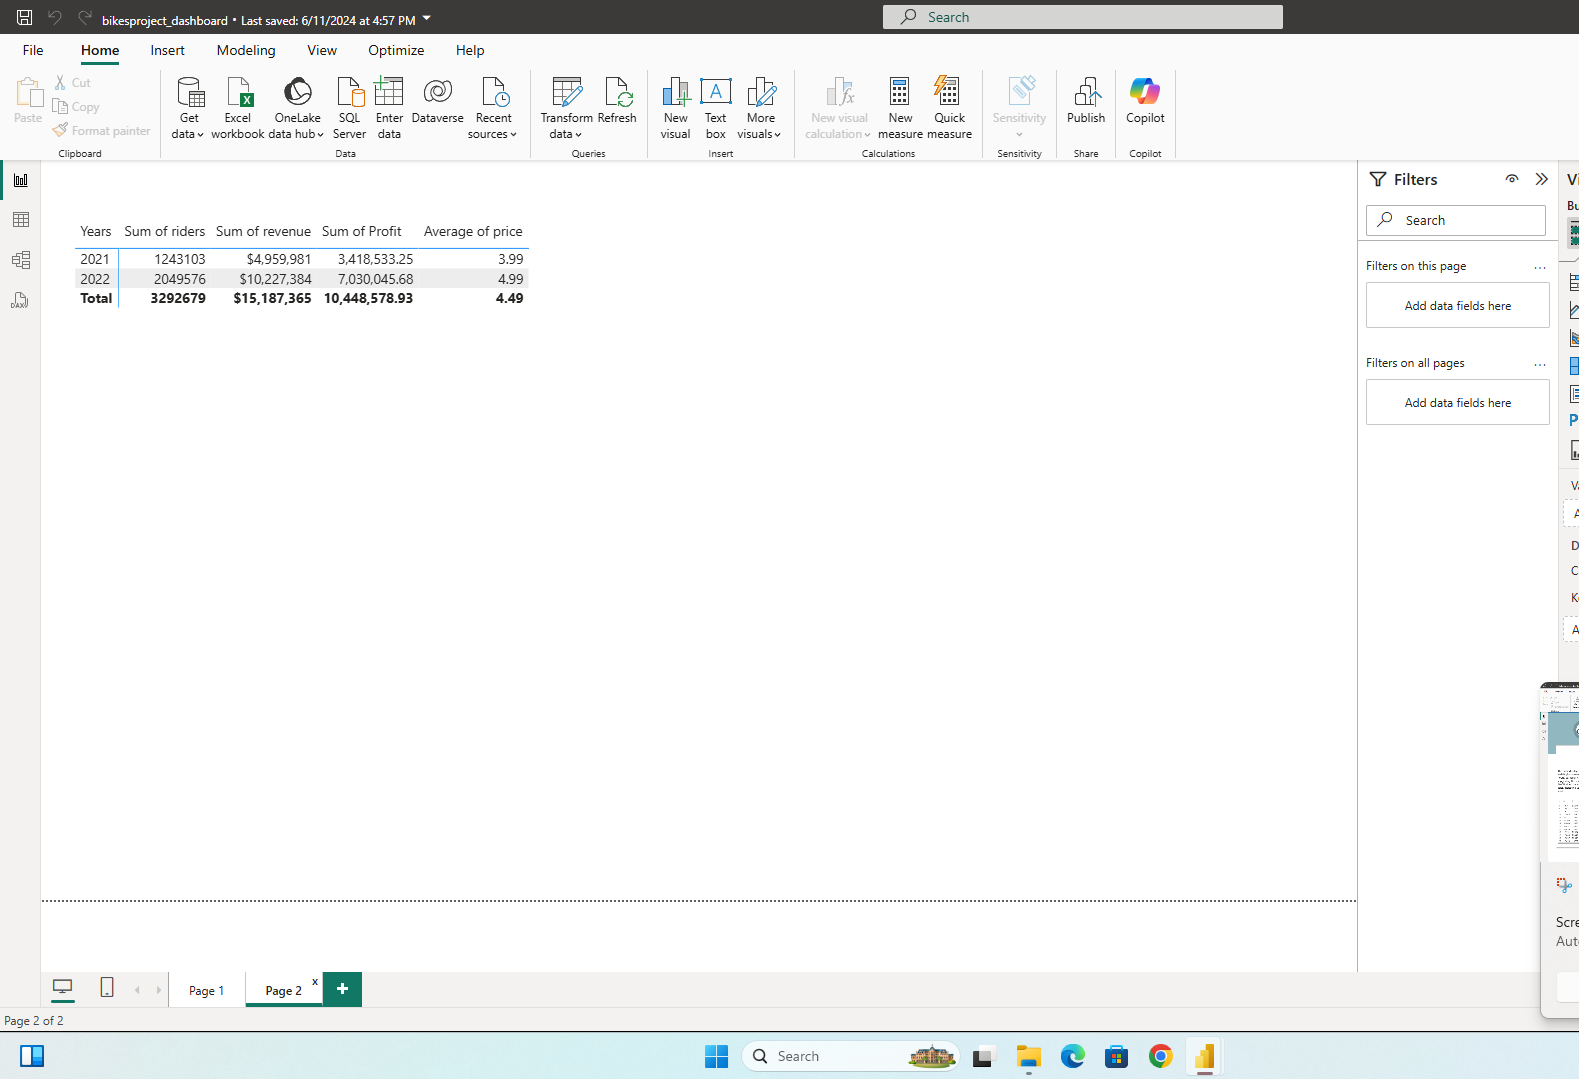

This screenshot's page, from the dashboard's own definition file:
{"tool":"powerbi","page":{"name":"Page 2","canvas":[1280,720],"ordinal":1},"visuals":[{"type":"pivotTable","fields":{"Rows":["Query1.Years"],"Values":["Sum(Query1.riders)","Sum(Query1.revenue)","Sum(Query1.Profit)","Avg(Query1.price)"]},"box":[28.2,53.5,468.8,280.1],"z":0}]}

Visuals, with their boxes on the page's 1280x720 design canvas (x1, y1, x2, y2). These are canvas units, not pixel positions in the 1579x1079 screenshot, which may show the page scaled, cropped or inside an application window:
pivotTable - Query1.Years x Sum(Query1.riders): region(28, 54, 497, 334)
